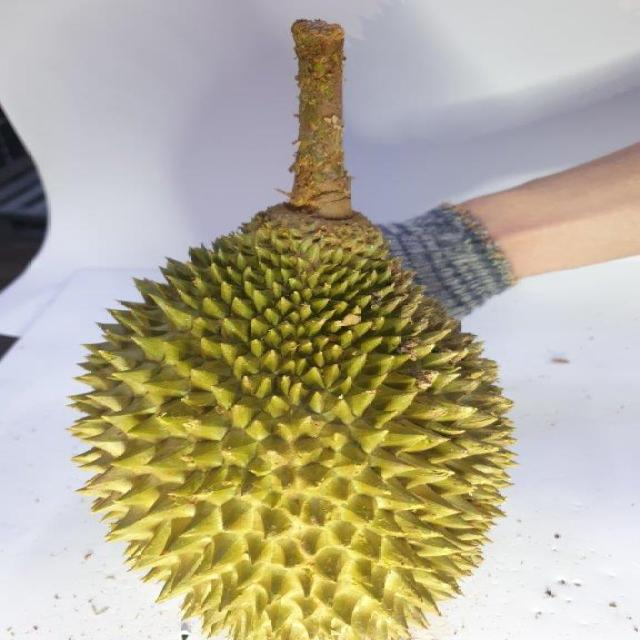immature: (69, 209, 519, 640)
